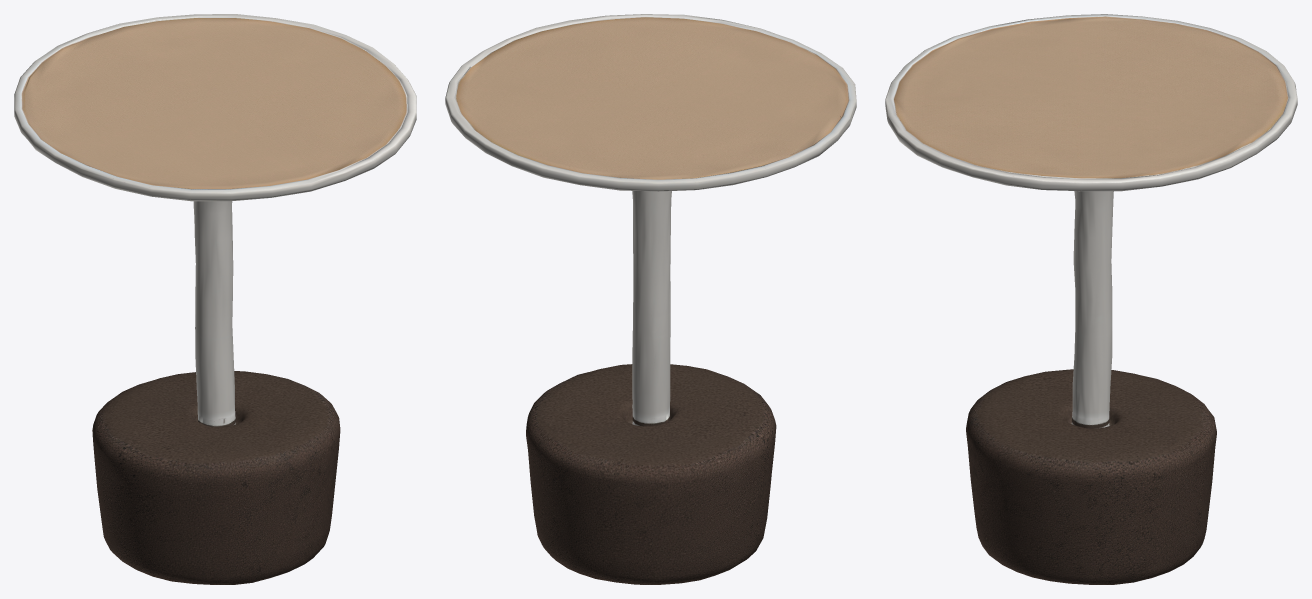
File: Flora small tall - Warm WhiteOak Venner.glb
3 views of the same model, side by side, from view 1: azimuth 30°, elevation 25°; view 2: azimuth 150°, elevation 25°; view 3: azimuth 270°, elevation 25° (orthographic).
Visible parts, largest first — view 1: tripo_node_c2f9b9f2-c9a8-44a0-92c2-bd718f519291; view 2: tripo_node_c2f9b9f2-c9a8-44a0-92c2-bd718f519291; view 3: tripo_node_c2f9b9f2-c9a8-44a0-92c2-bd718f519291.
Part boxes in pixels (left/top/right/bottom): tripo_node_c2f9b9f2-c9a8-44a0-92c2-bd718f519291: left=14, top=14, right=416, bottom=584; tripo_node_c2f9b9f2-c9a8-44a0-92c2-bd718f519291: left=445, top=14, right=856, bottom=584; tripo_node_c2f9b9f2-c9a8-44a0-92c2-bd718f519291: left=885, top=14, right=1297, bottom=584.
Size of the model in its own units: 0.8184 by 0.998 by 0.8301.
Materials: 1 (1 with a texture image).
